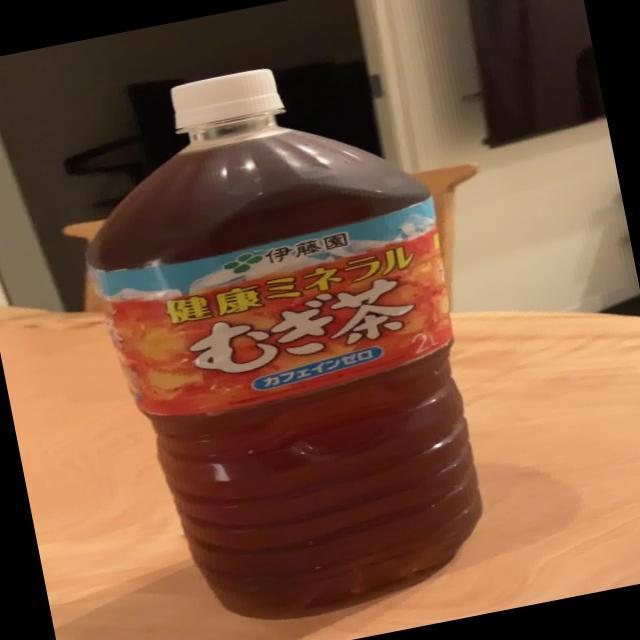good: (56, 39, 507, 640)
